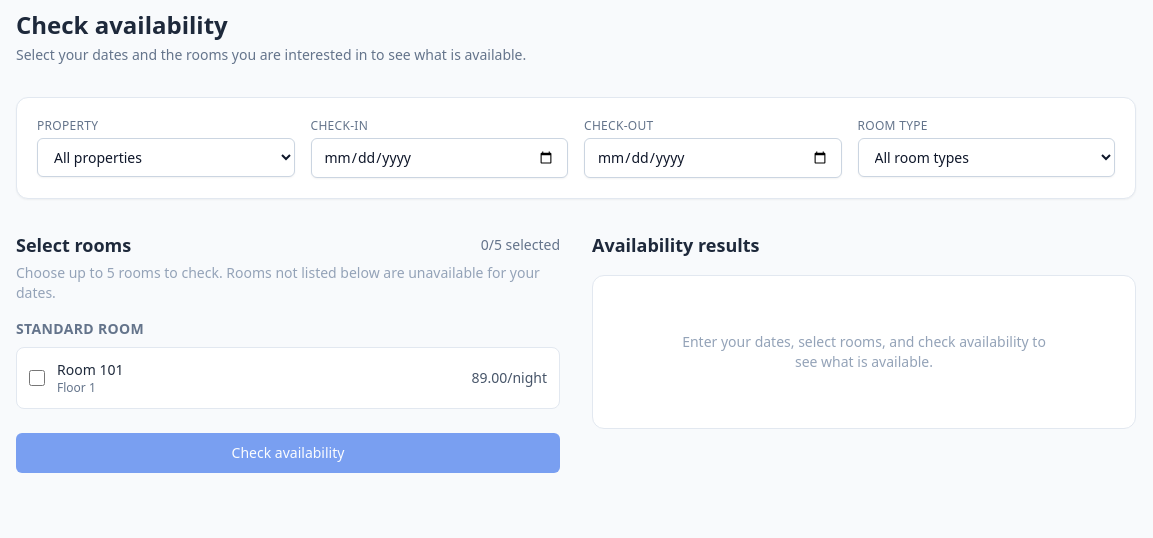
Test: AvailabilitySearch page › shows an error if the availability check fails
The width and height of the screenshot is (1153, 538).
Expected: the text "Room 101" is shown, [57, 360, 123, 380]
Type "2026-10-01" into the date field labelled "Check-in" at (439, 158), box [310, 138, 568, 178]
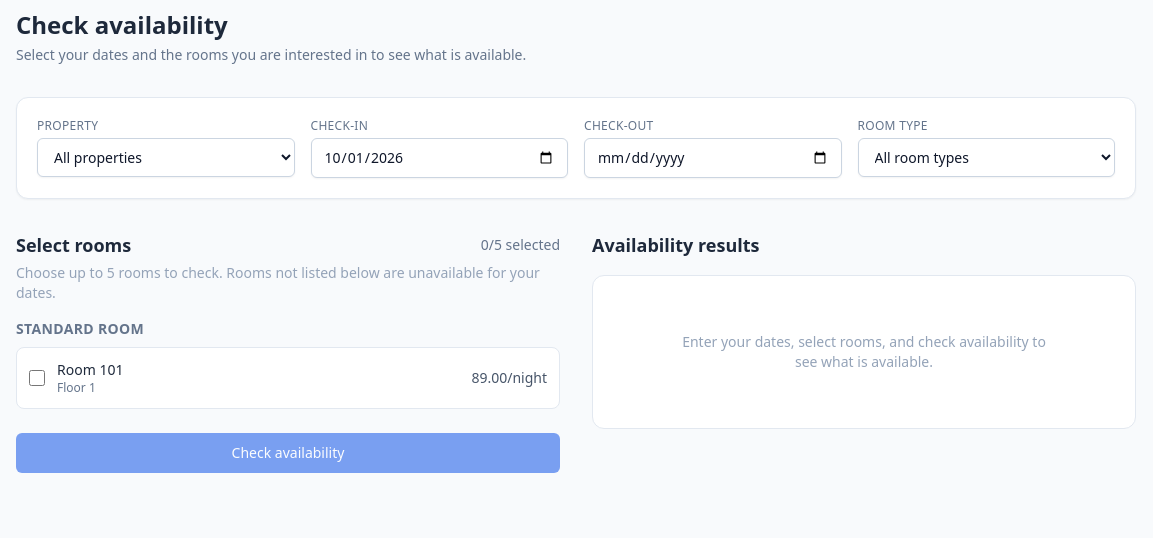
Type "2026-10-05" into the date field labelled "Check-out" at (713, 158), box [584, 138, 842, 178]
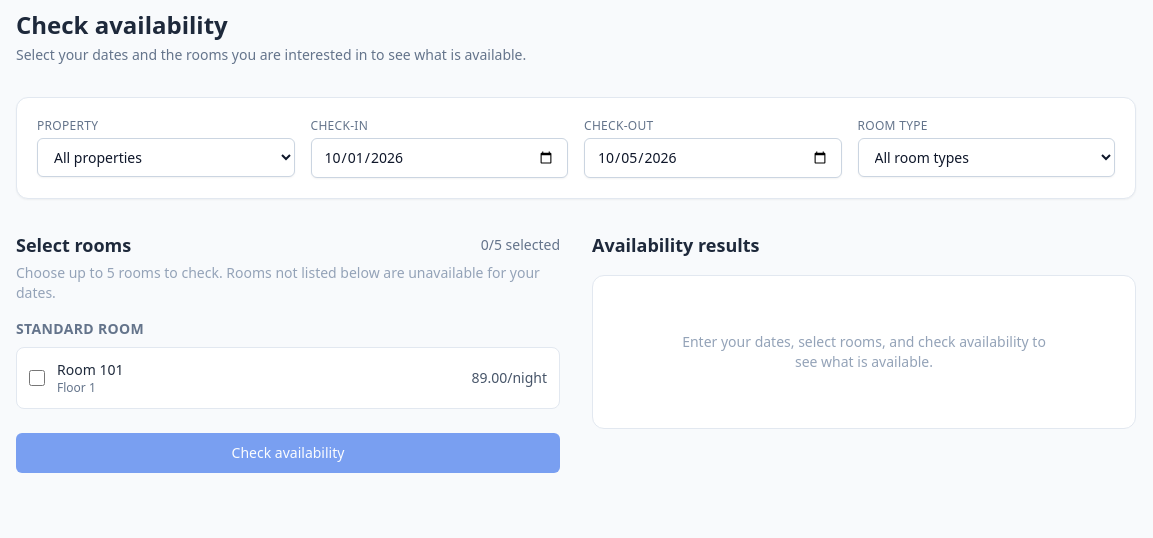
Click the checkbox labelled "Room 101 Floor 1 89.00/night" at (37, 378), box [29, 370, 45, 386]
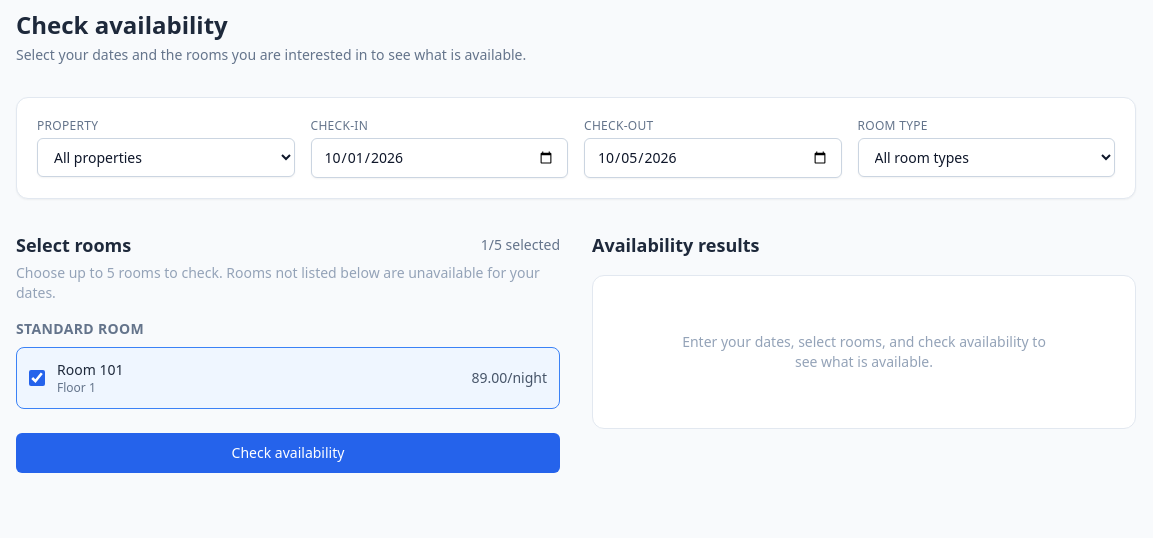
Click the button "Check availability" at (288, 453), box [16, 433, 560, 473]
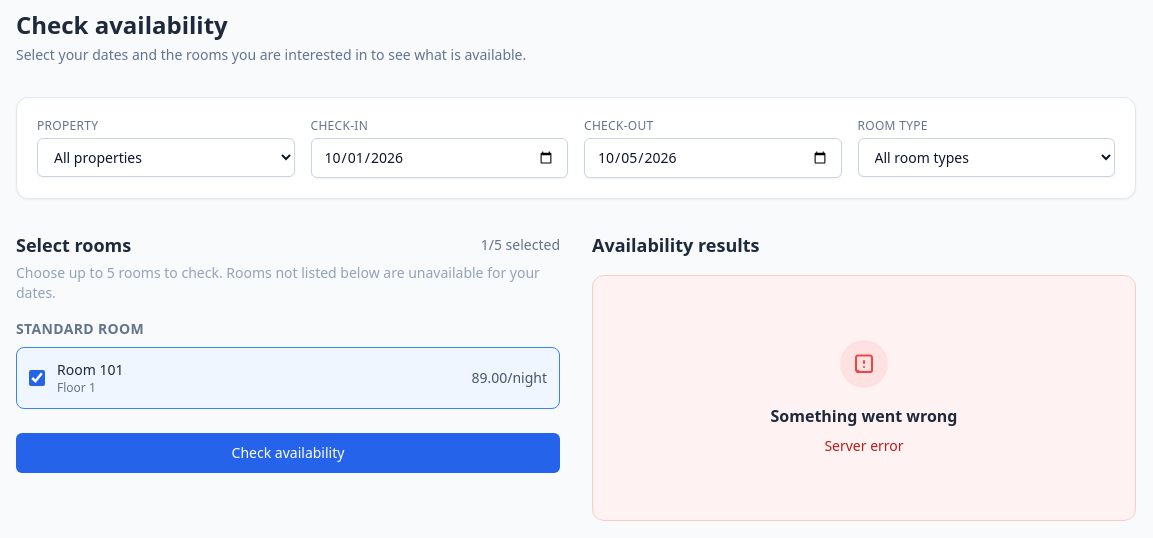
Expected: the message "Something went wrong Server error" is shown, [592, 275, 1136, 521]
